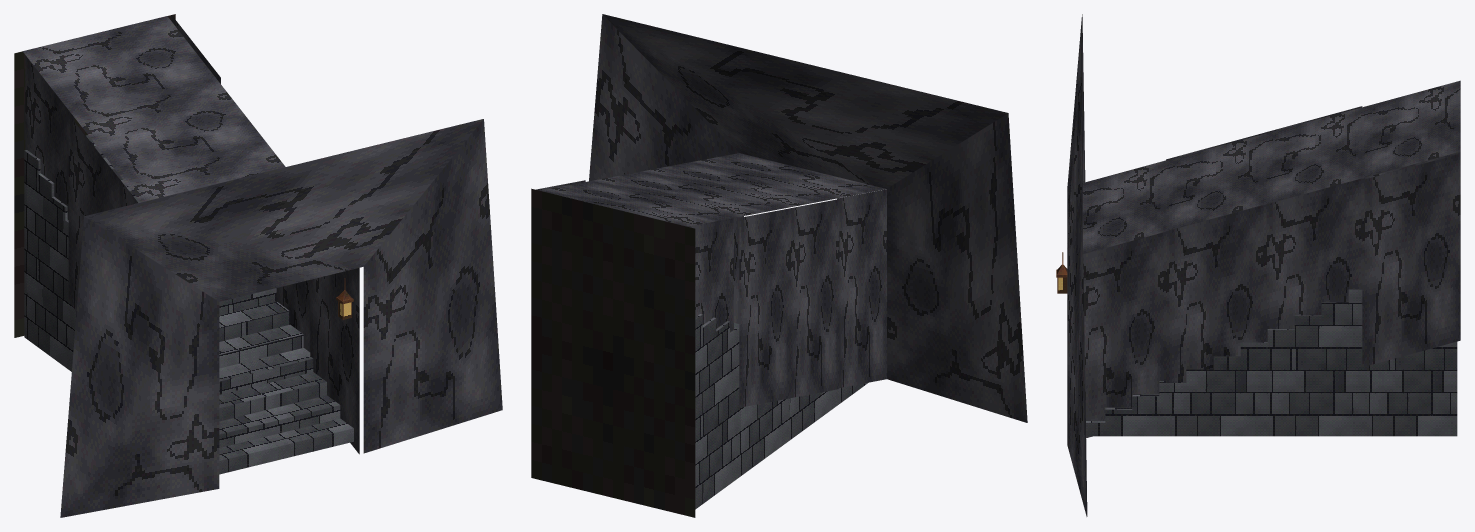
The model's file is paso_roca.obj.
3 renders of one model, left to right at view 1: azimuth 30°, elevation 25°; view 2: azimuth 150°, elevation 25°; view 3: azimuth 270°, elevation 25°, orthographic.
Parts seen in each view (by area): view 1: paso_roca; view 2: paso_roca; view 3: paso_roca.
Part boxes in pixels (x1,y1,x2,y2): paso_roca: (14,14,502,517); paso_roca: (531,14,1027,517); paso_roca: (1056,14,1460,516).
Bounding box in the file's own units: 10.4 × 6.7 × 8.23.
5 materials, 5 textured.
